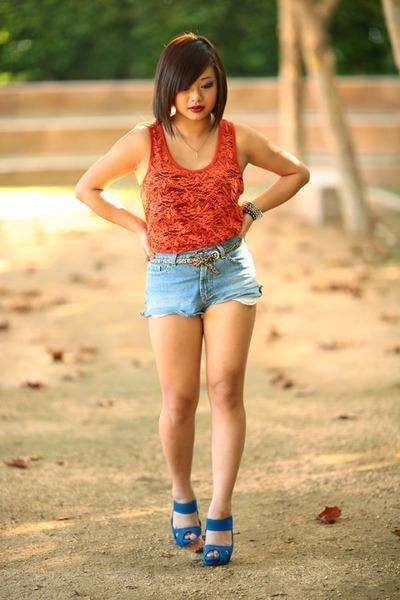shirt: (141, 119, 248, 256)
shoe: (171, 500, 232, 567)
shorts: (143, 235, 262, 323)
